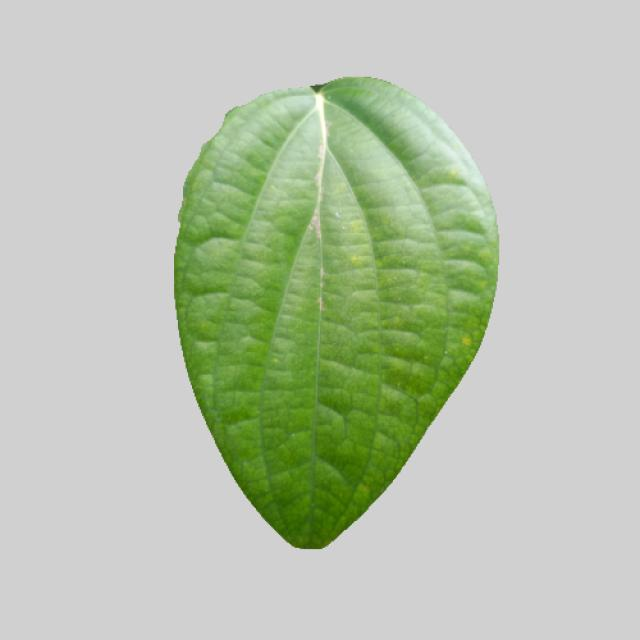healthy: (165, 71, 502, 554)
